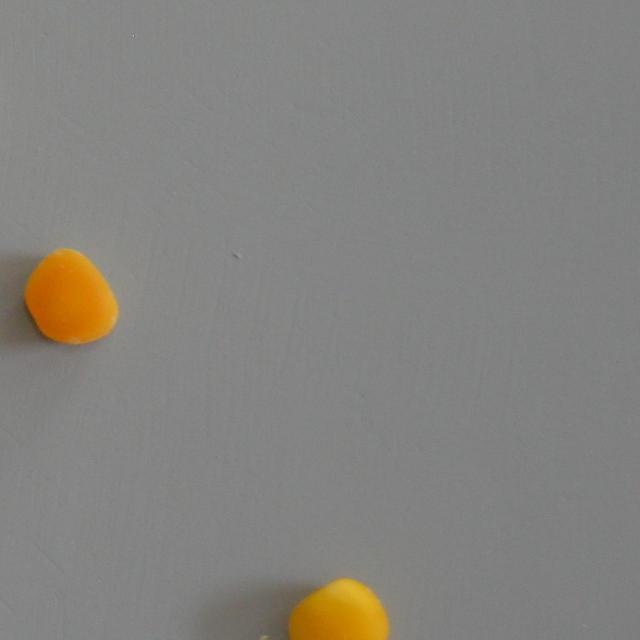no_canjicado: (22, 247, 118, 346), (288, 578, 388, 640)
